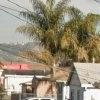Palm tree: (23, 2, 97, 67)
